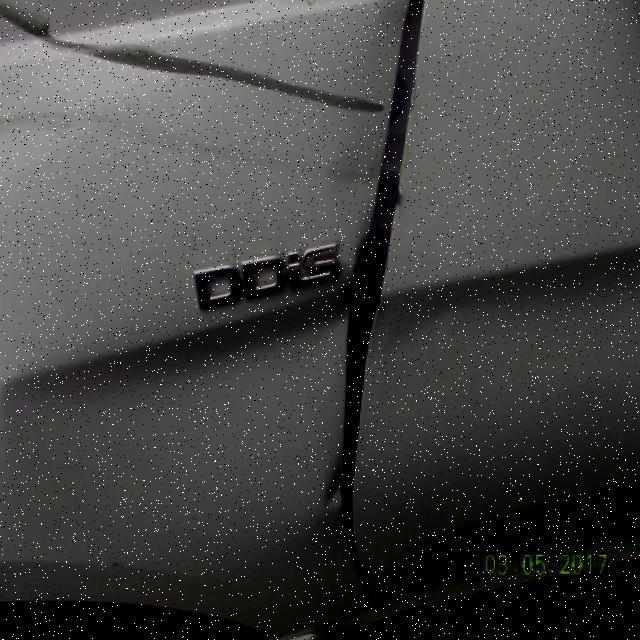car damage: (328, 4, 433, 625), (2, 1, 387, 121)
